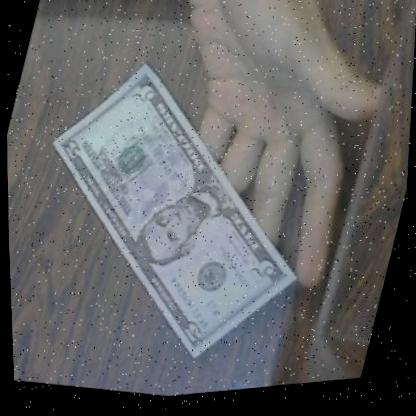five-front: (1, 31, 360, 398)
